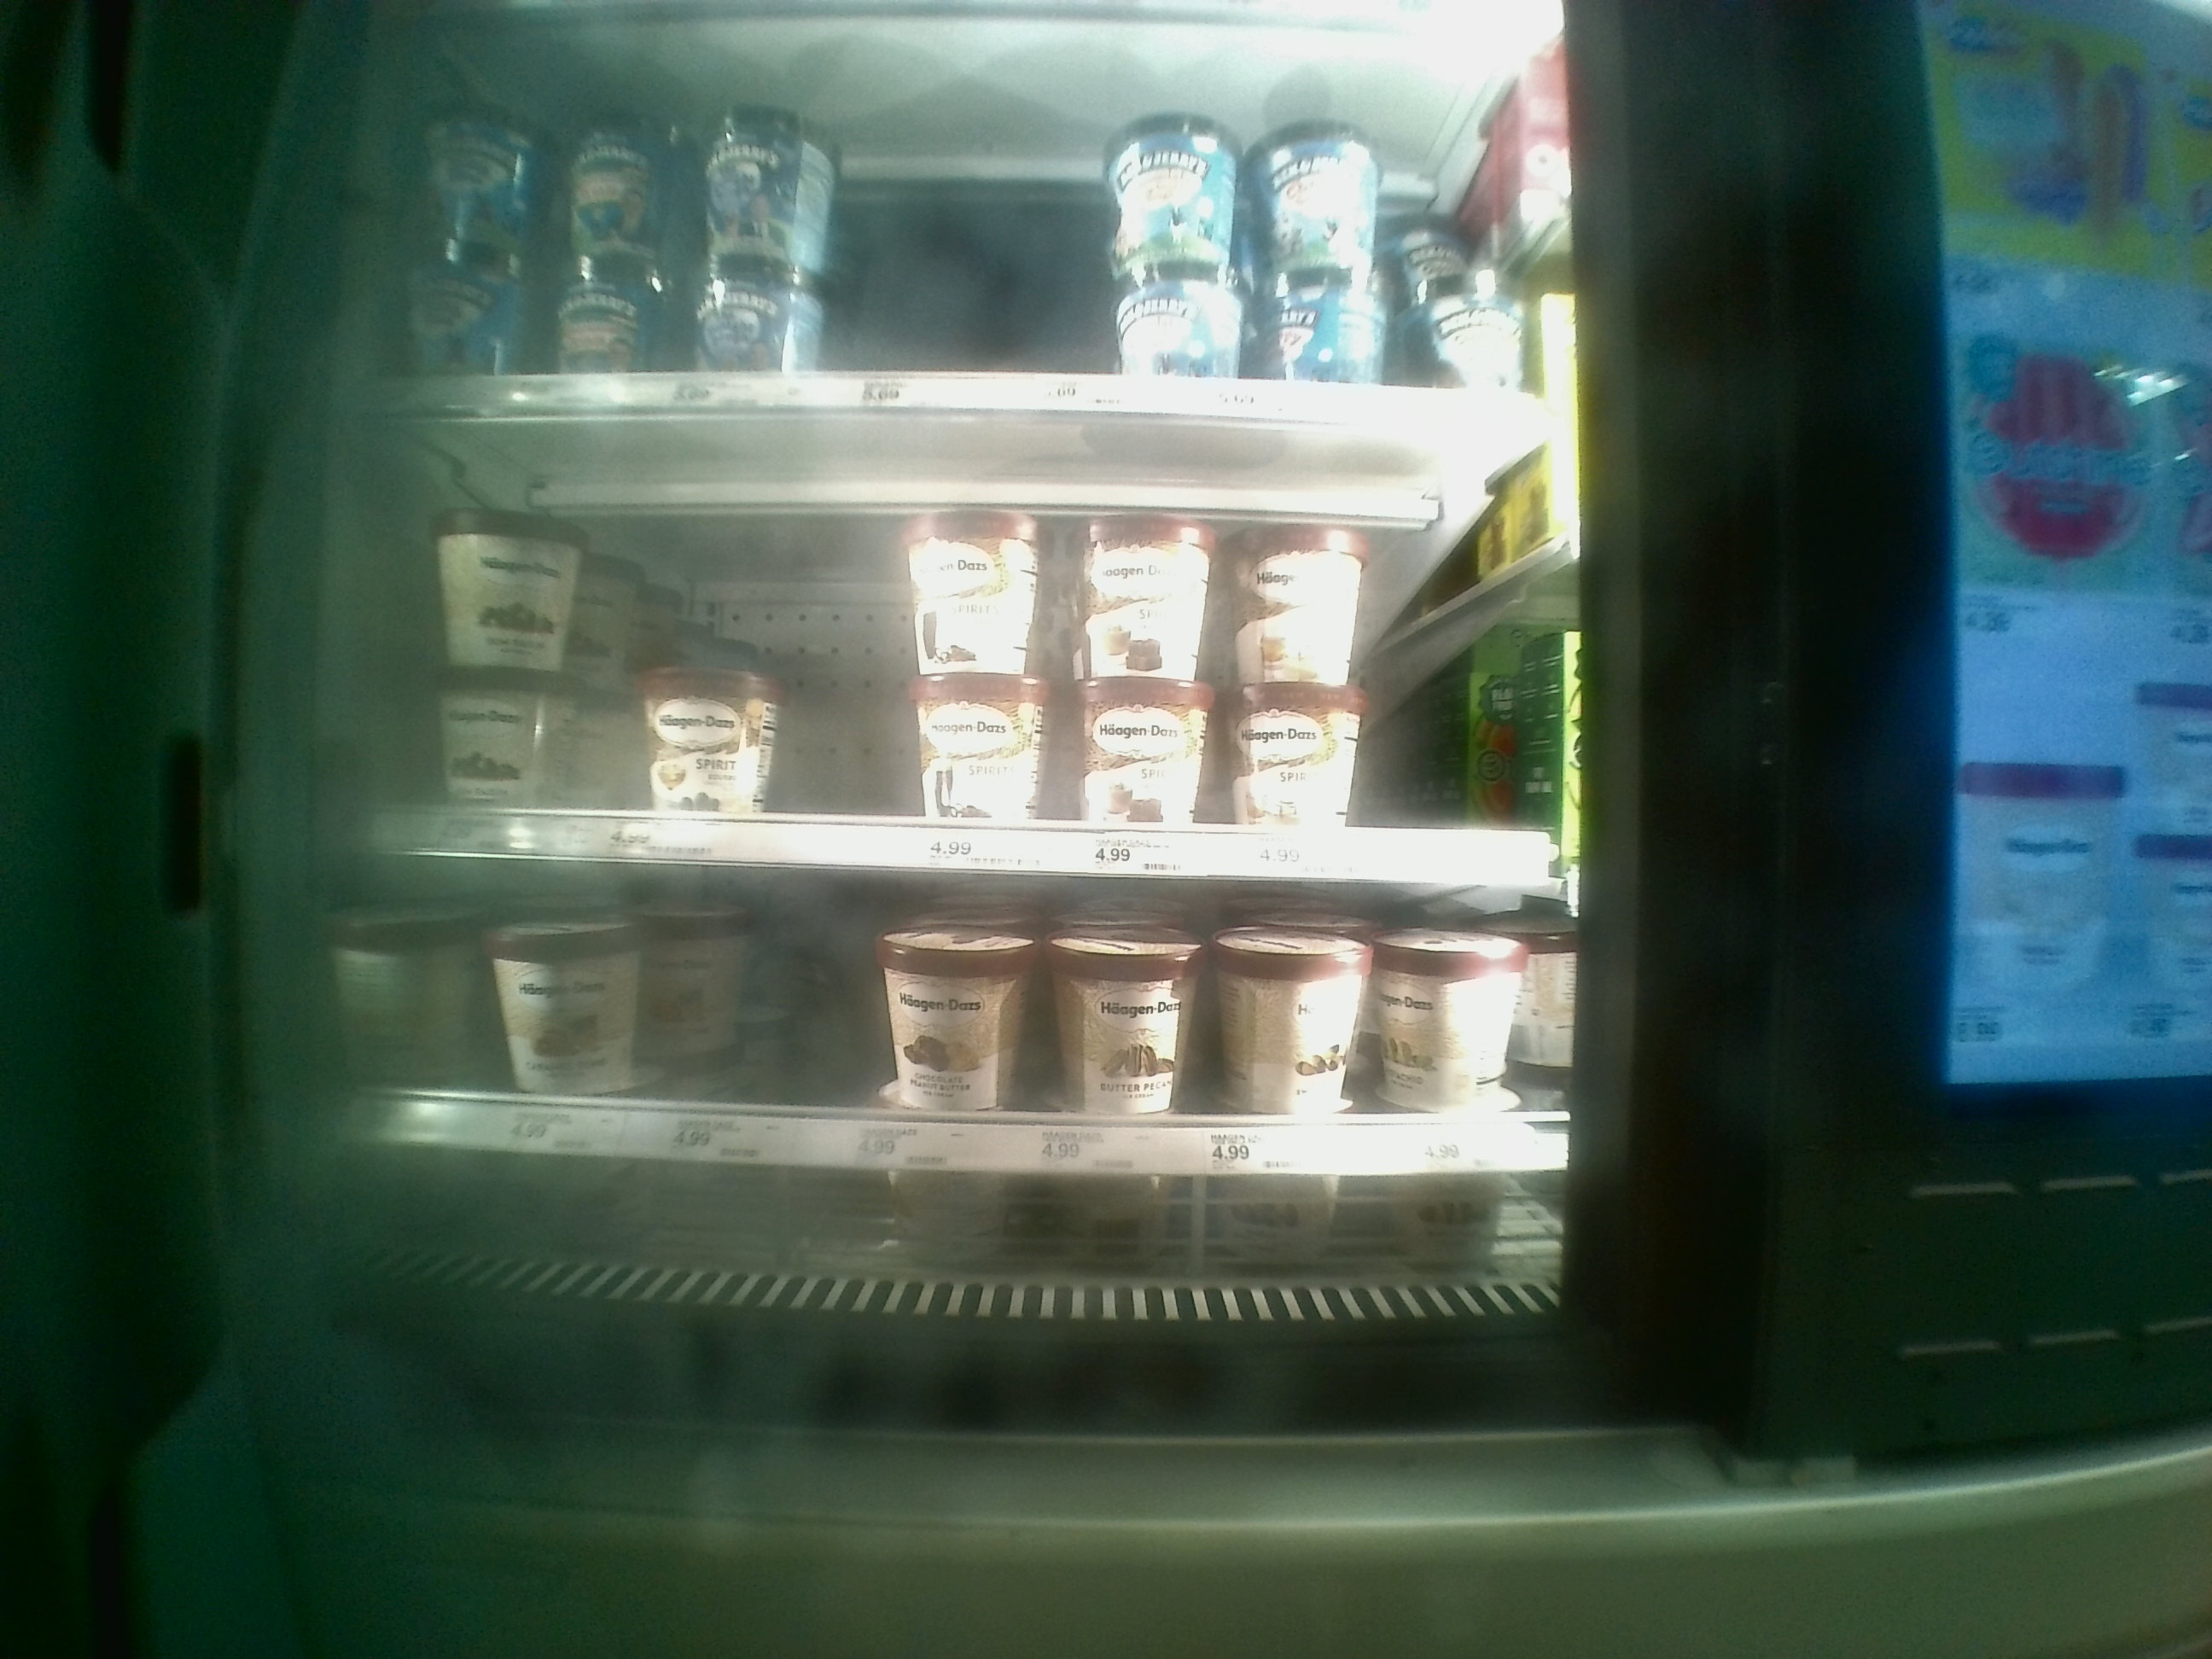shelf: (348, 404, 1561, 873), (359, 849, 1576, 1215)
